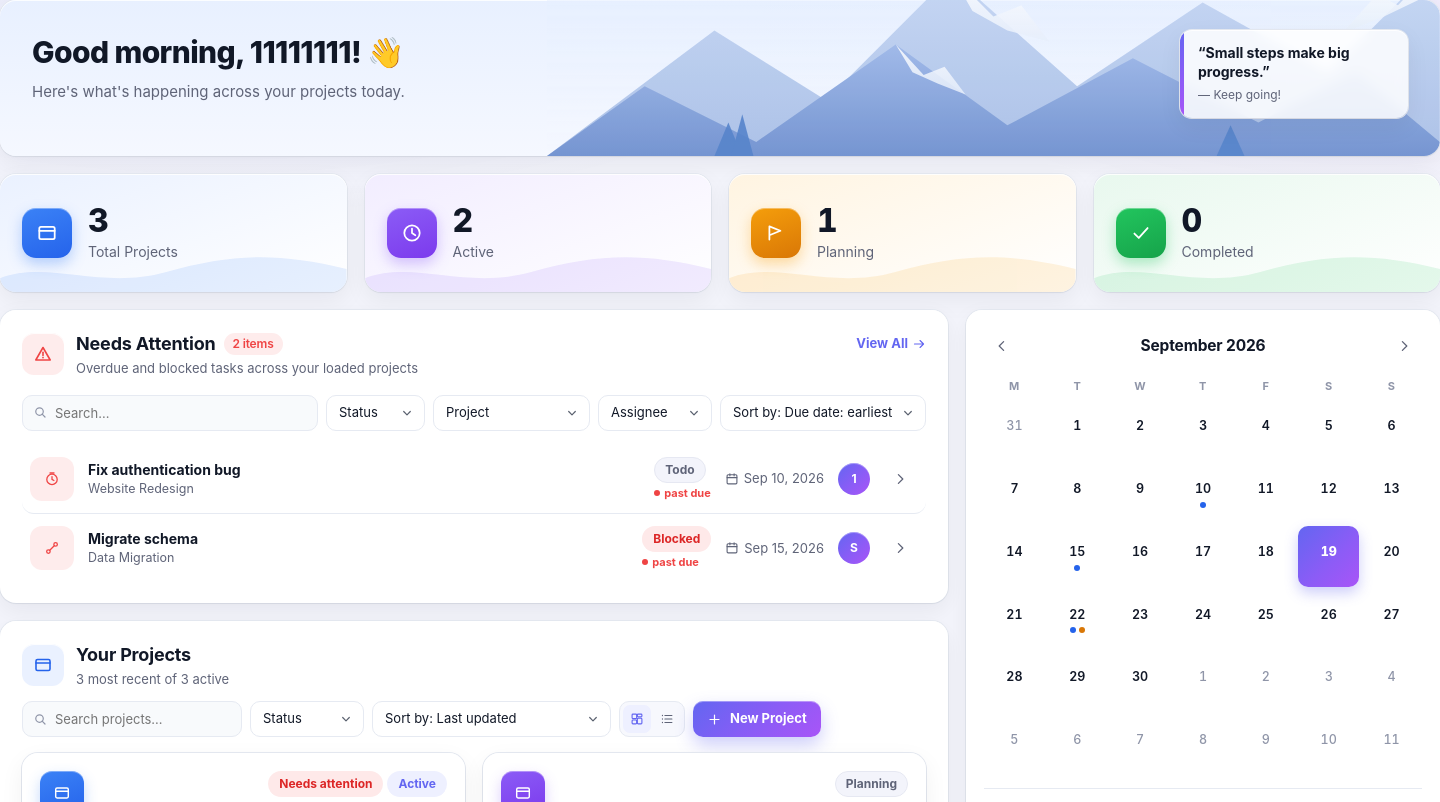
Test case: DashboardPage (reference layout) › Your Projects: cards with real progress and meta, search + status filter + backend sort + view toggle, New Project dialog
Check: the list item "Website Redesign" shows "Active", box 398,776 -> 436,791
Type "mob" into the search field with placeholder "Search projects…" at (132,719), box 22,701 -> 242,737
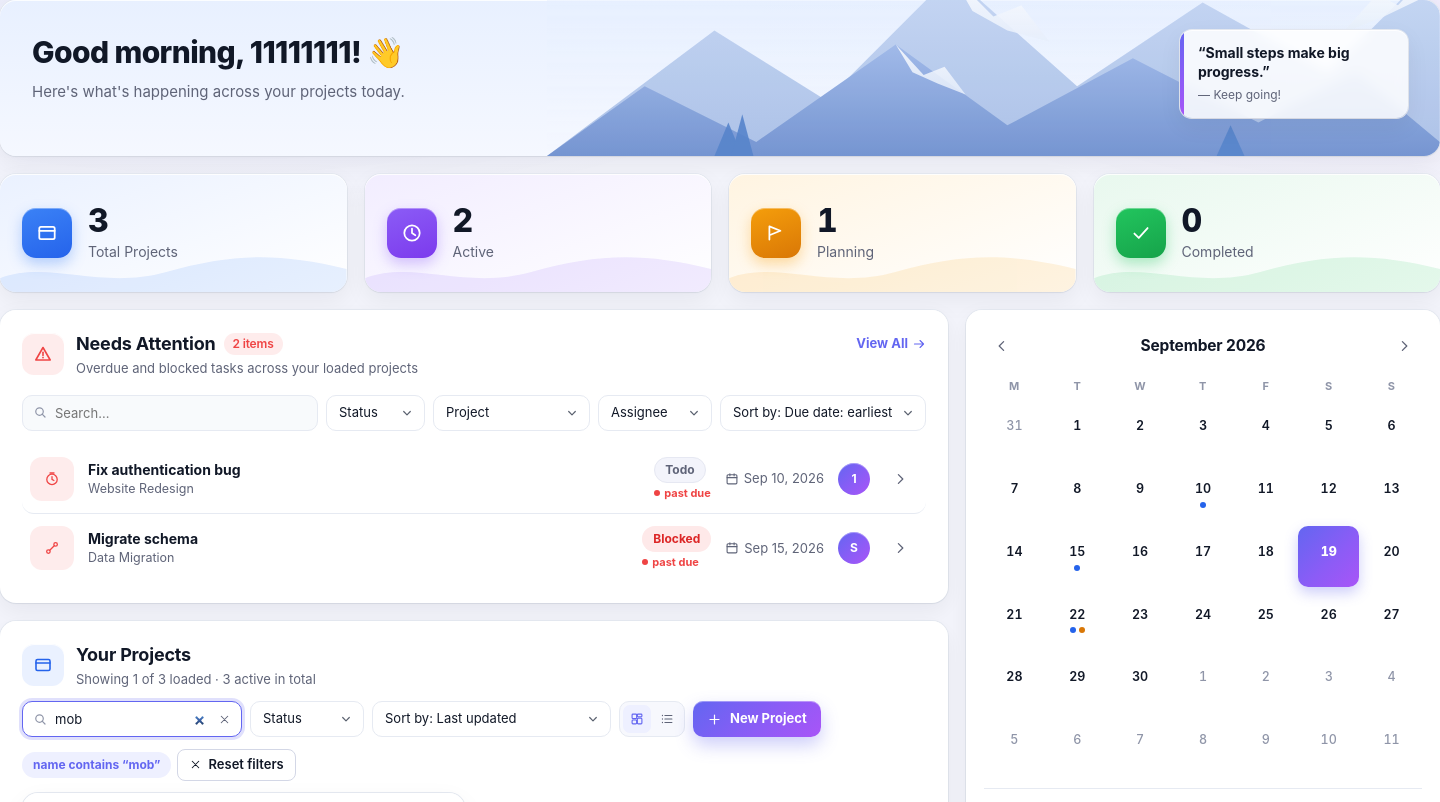
Check: the text "Showing 1 of 3 loaded · 3 active in total" is shown, box 76,670 -> 316,686
Click the button named "Clear search" at (224,719), box 210,705 -> 238,733
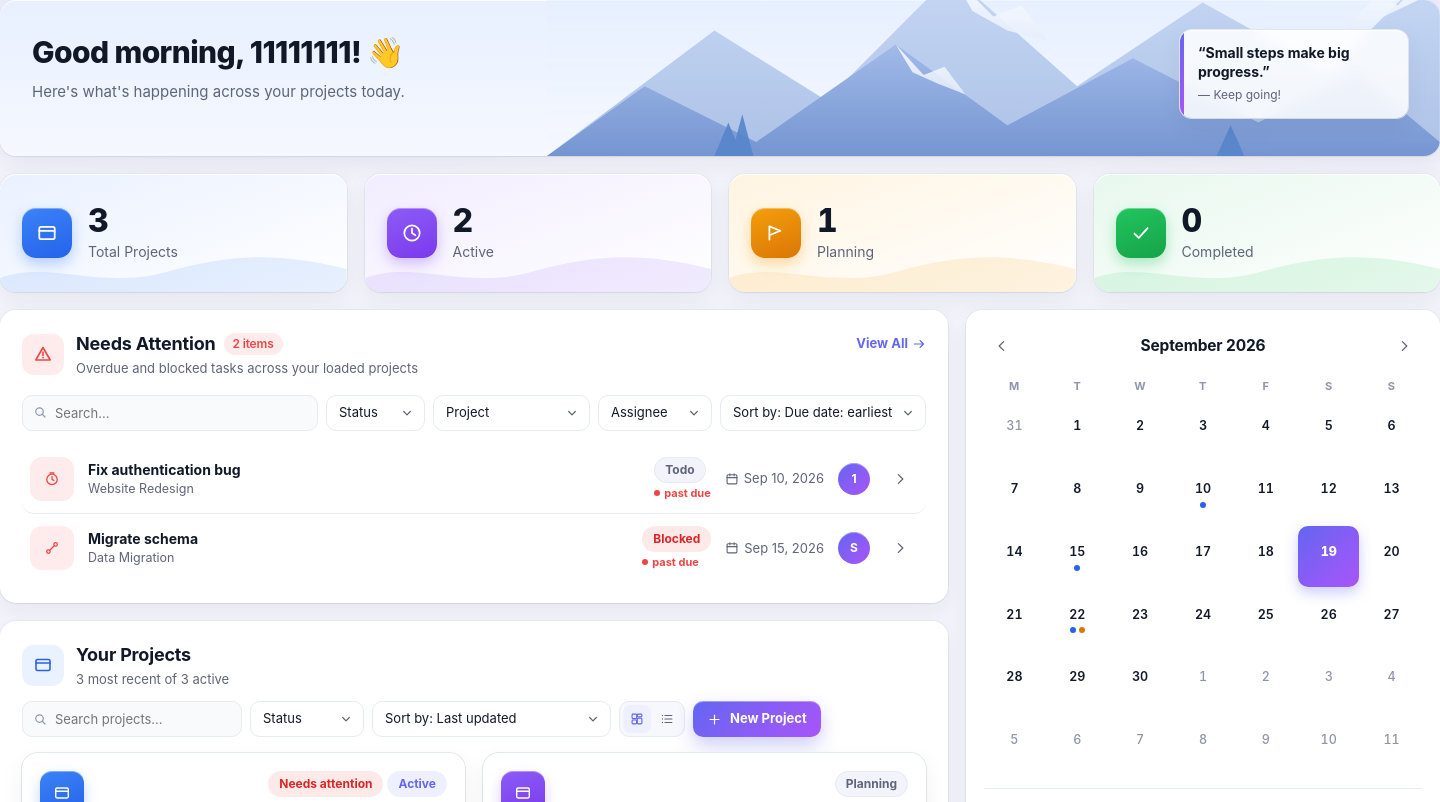
Select "Active" in the dropdown named "Status" below "3 most recent of 3 active" at (307,719), box 250,701 -> 364,737
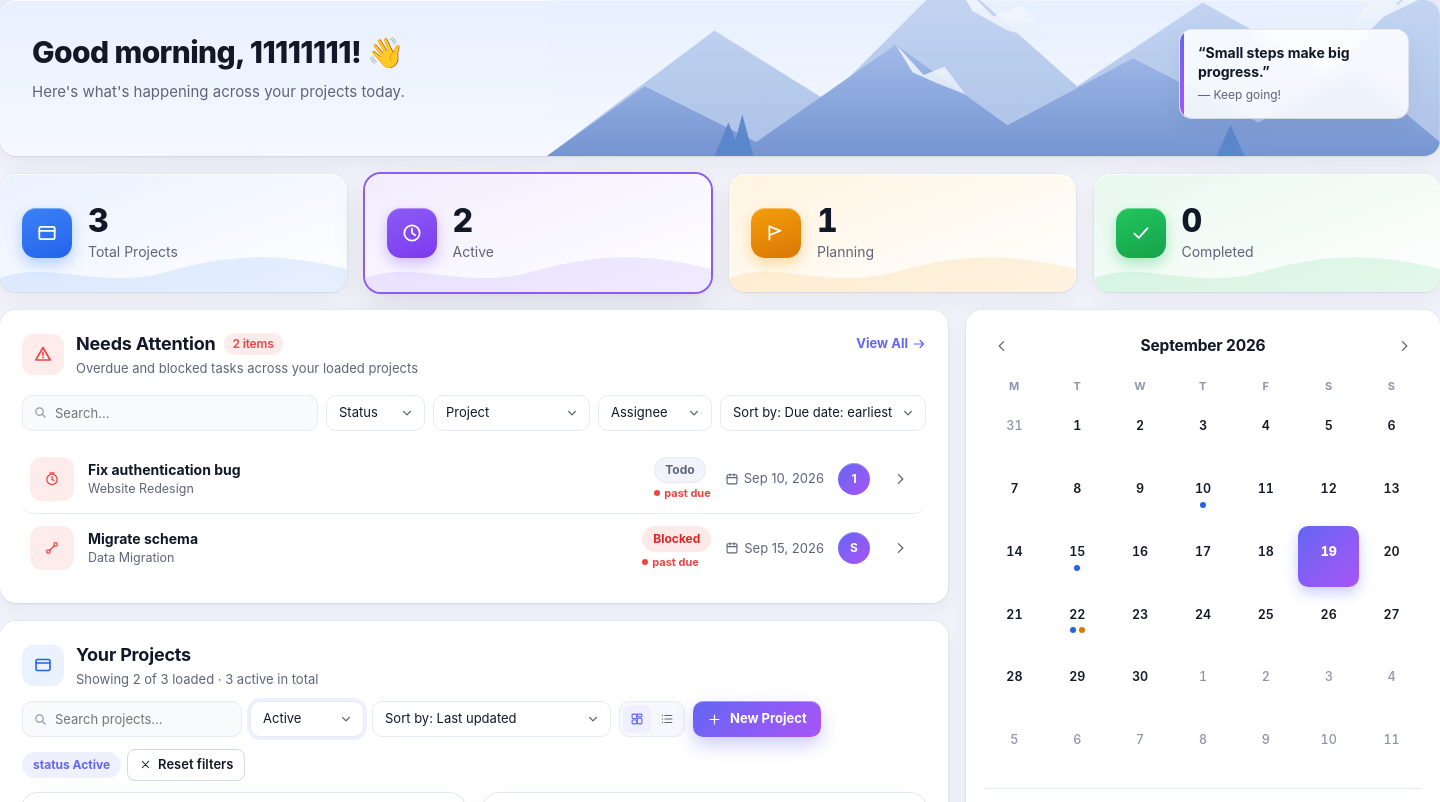
Click the button "Reset filters" at (186,765), box 127,749 -> 245,780
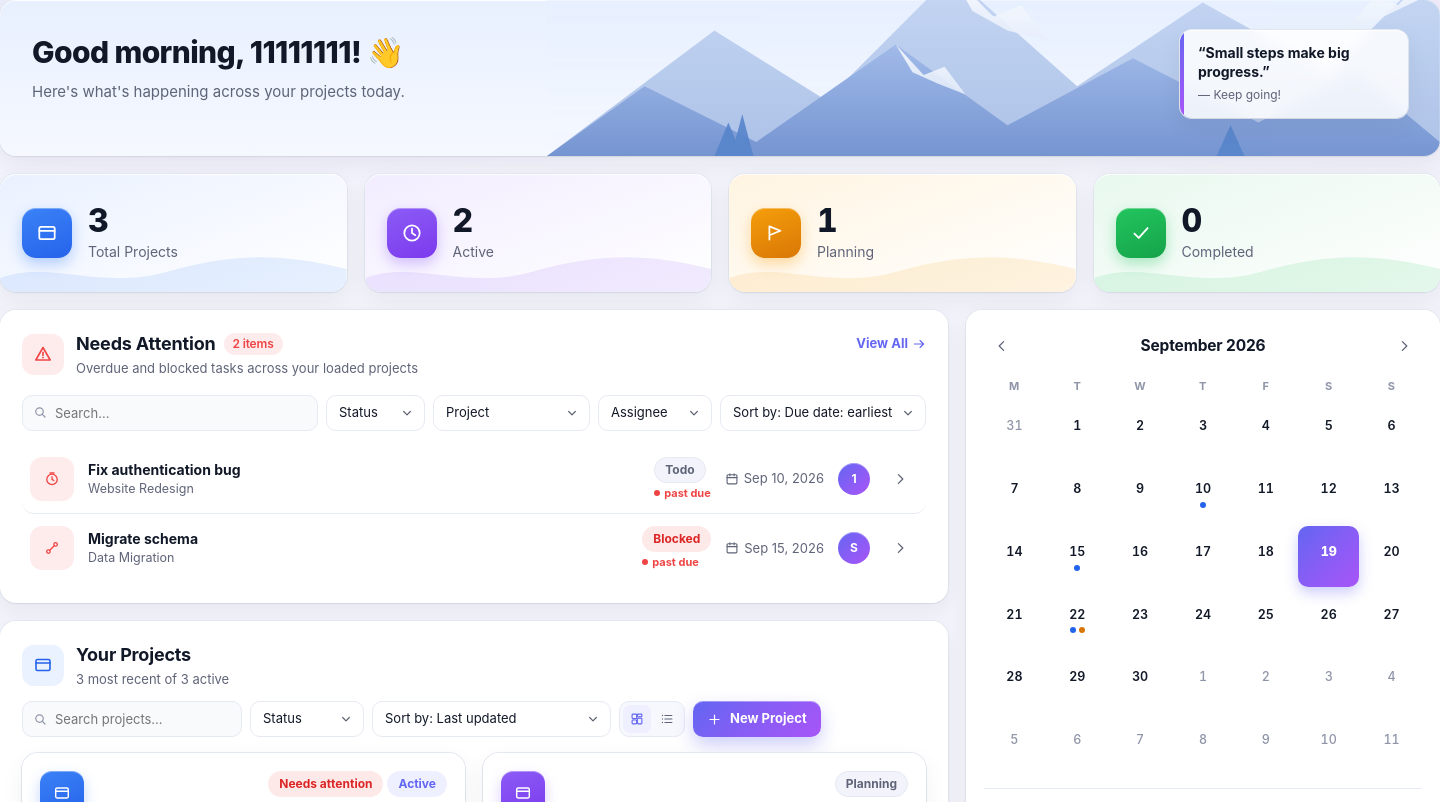
Select "Sort by: Name: A to Z" in the dropdown named "Sort by" at (492,719), box 372,701 -> 611,737
Click the button named "List view" at (667,719), box 653,705 -> 681,733
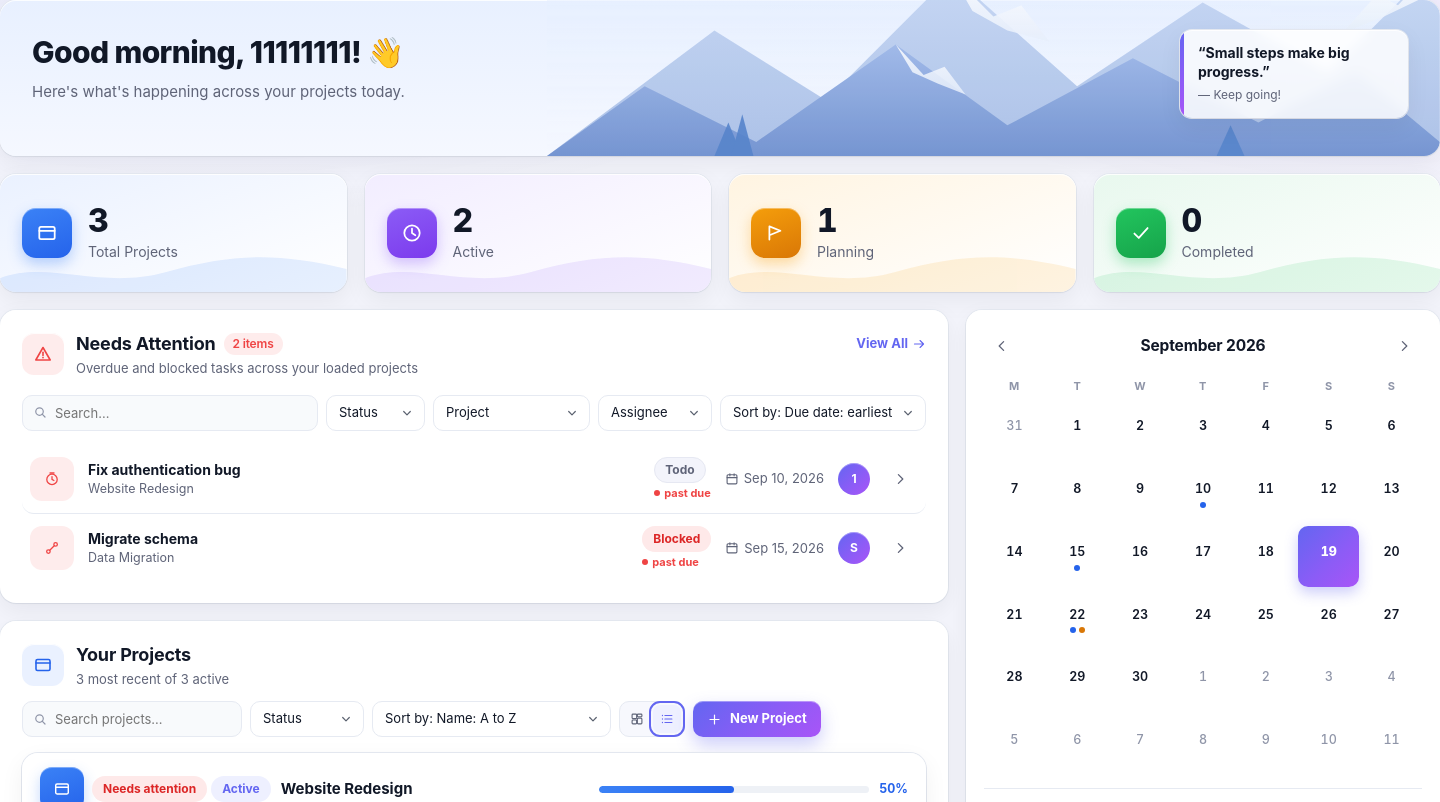
Click the button "New Project" at (757,719), box 693,701 -> 821,737
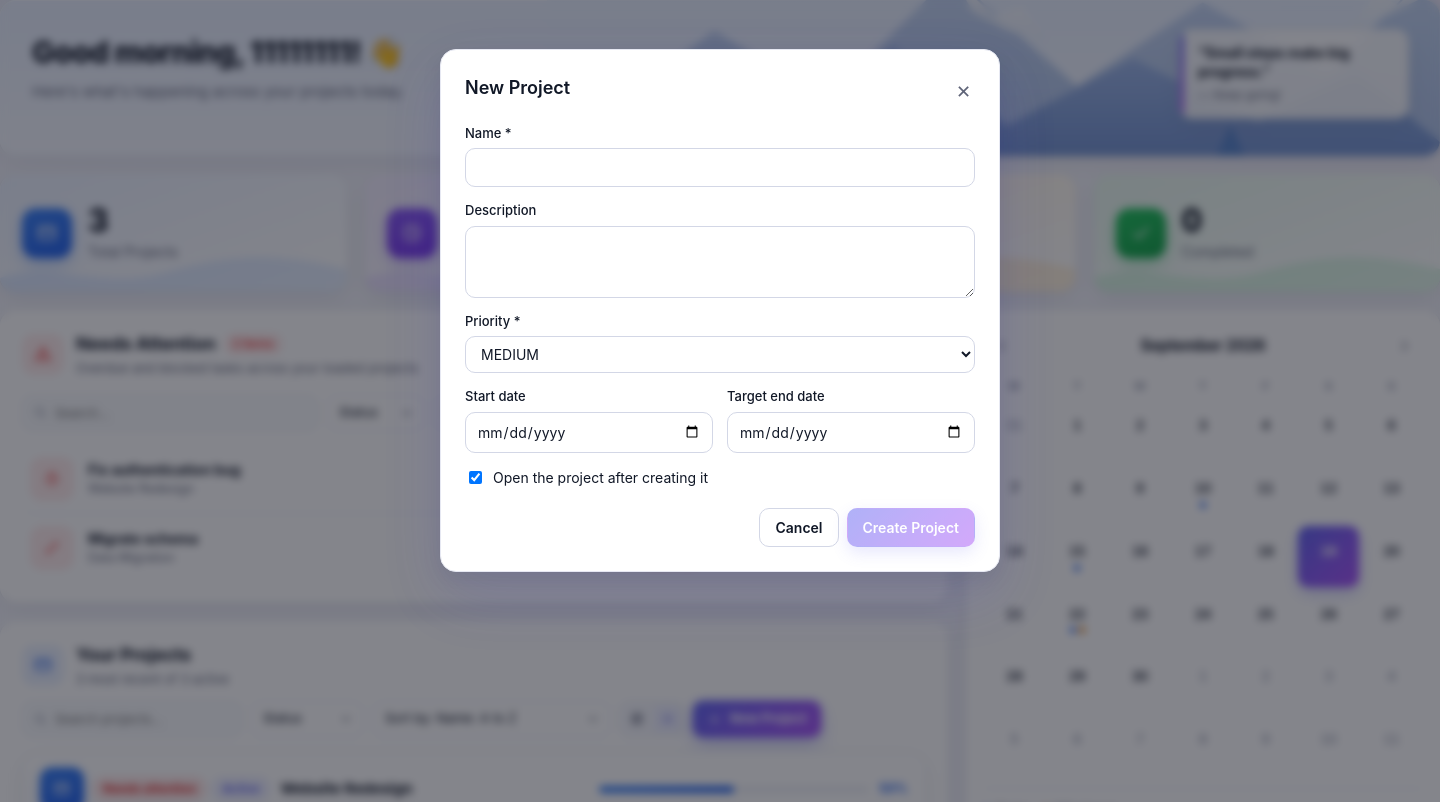
Check: the dialog "New Project" is shown, box 440,49 -> 1000,572
